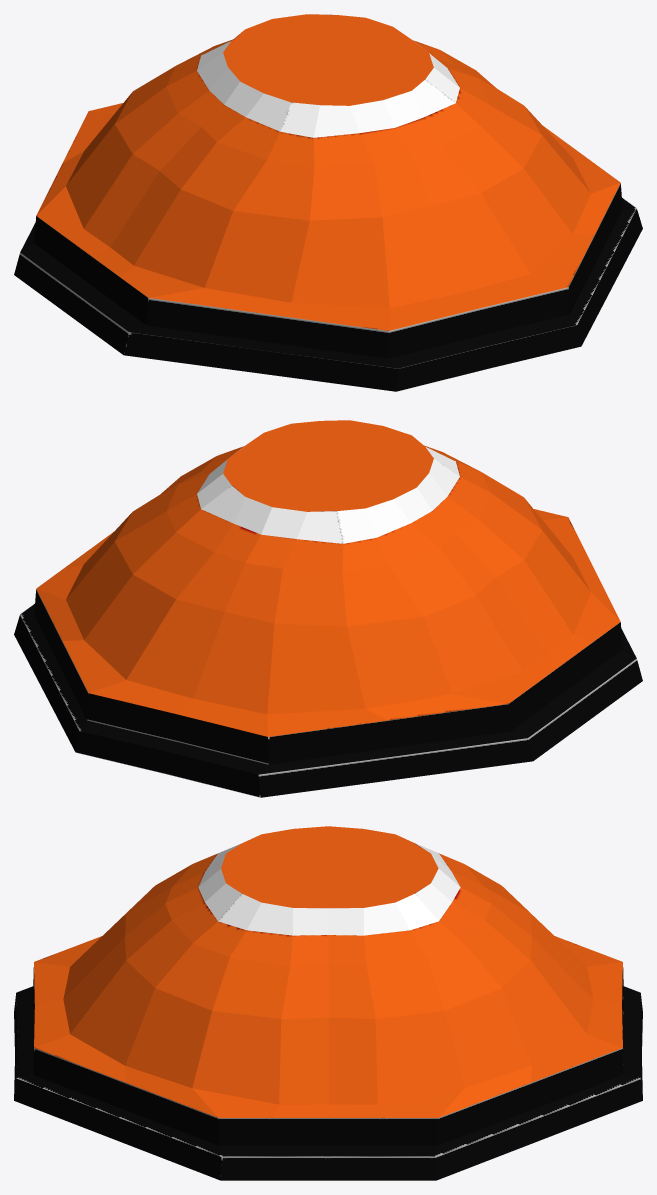
Rendered from note_five.fbx.
The picture shows the model from 3 angles, top to bottom: view 1: azimuth 30°, elevation 25°; view 2: azimuth 150°, elevation 25°; view 3: azimuth 270°, elevation 25°; orthographic projection.
Visible parts, largest first — view 1: pasted__polySurface1; view 2: pasted__polySurface1; view 3: pasted__polySurface1.
Part boxes in pixels (bbox=[...]): pasted__polySurface1: bbox=[14, 14, 642, 391]; pasted__polySurface1: bbox=[14, 420, 642, 797]; pasted__polySurface1: bbox=[14, 826, 642, 1180].
Size of the model in its own units: 1.05 by 0.3718 by 1.13.
1 material, 1 textured.
